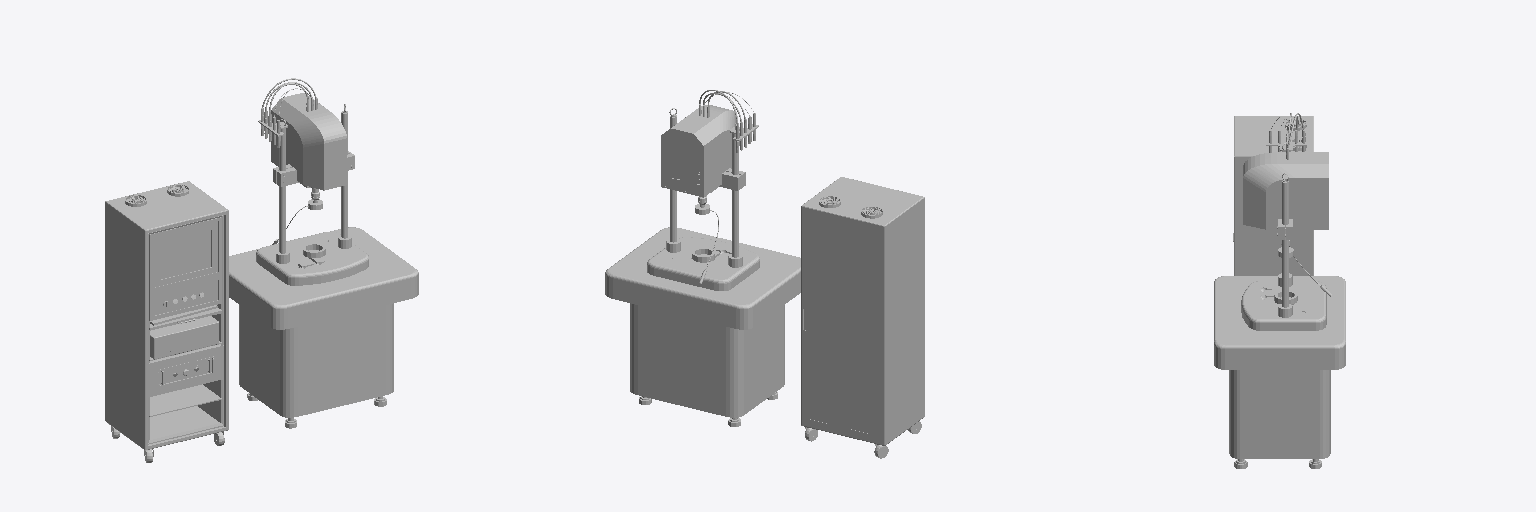
Rendered from dynammic fatique.obj.
3 views of the same model, side by side, from view 1: azimuth 30°, elevation 25°; view 2: azimuth 150°, elevation 25°; view 3: azimuth 270°, elevation 25° (orthographic).
Parts seen in each view (by area): view 1: Cube.006_Cube.008, Cube.003_Cube.005, Cube_Cube.001, Plane.005, Cube.007_Cube.009, Cube.004_Cube.006, Circle.009_Circle.019, Cube.001_Cube.002, Cube.005_Cube.007; view 2: Cube.003_Cube.005, Cube.006_Cube.008, Plane.005, Cube.007_Cube.009, Circle.009_Circle.019; view 3: Cube.006_Cube.008, Cube.003_Cube.005, Plane.005, Cube.007_Cube.009, Circle.009_Circle.019.
Boxes of the visible parts, <box> form: Cube.006_Cube.008: <box>229,227,418,417</box>; Cube.003_Cube.005: <box>105,181,228,450</box>; Cube_Cube.001: <box>149,217,221,320</box>; Plane.005: <box>271,93,346,190</box>; Cube.007_Cube.009: <box>256,232,368,285</box>; Cube.004_Cube.006: <box>148,344,223,397</box>; Circle.009_Circle.019: <box>273,104,354,263</box>; Cube.001_Cube.002: <box>150,316,218,359</box>; Cube.005_Cube.007: <box>149,384,221,416</box>; Cube.003_Cube.005: <box>801,177,924,445</box>; Cube.006_Cube.008: <box>605,227,800,417</box>; Plane.005: <box>661,105,736,197</box>; Cube.007_Cube.009: <box>647,237,759,290</box>; Circle.009_Circle.019: <box>666,108,745,267</box>; Cube.006_Cube.008: <box>1214,276,1345,458</box>; Cube.003_Cube.005: <box>1234,116,1313,275</box>; Plane.005: <box>1243,152,1328,229</box>; Cube.007_Cube.009: <box>1241,281,1326,330</box>; Circle.009_Circle.019: <box>1277,143,1292,317</box>.
Size of the model in its own units: 12.52 by 14.37 by 5.36.